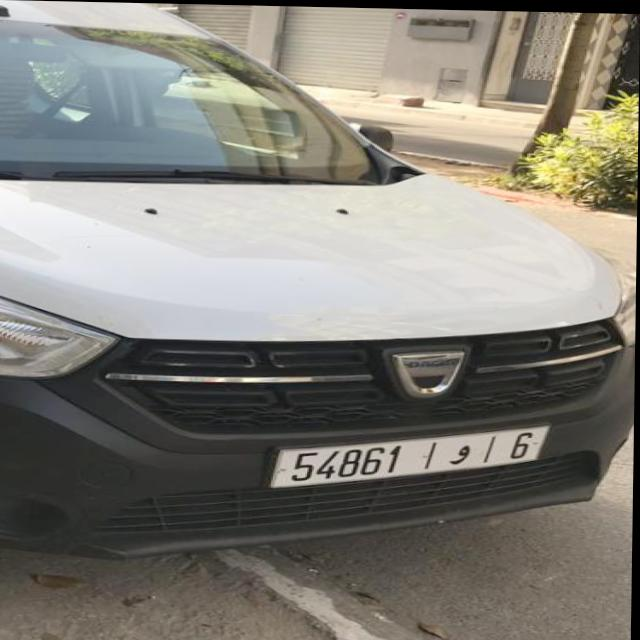License-Plate: (272, 425, 551, 486)
